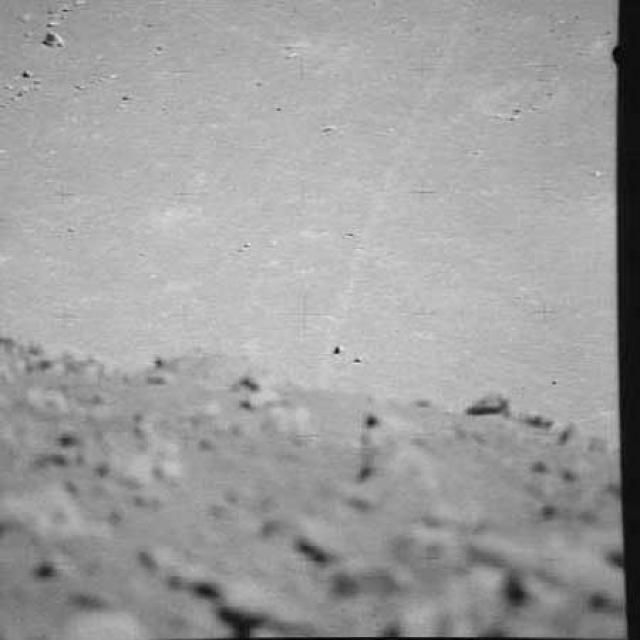rock: (38, 25, 71, 53)
